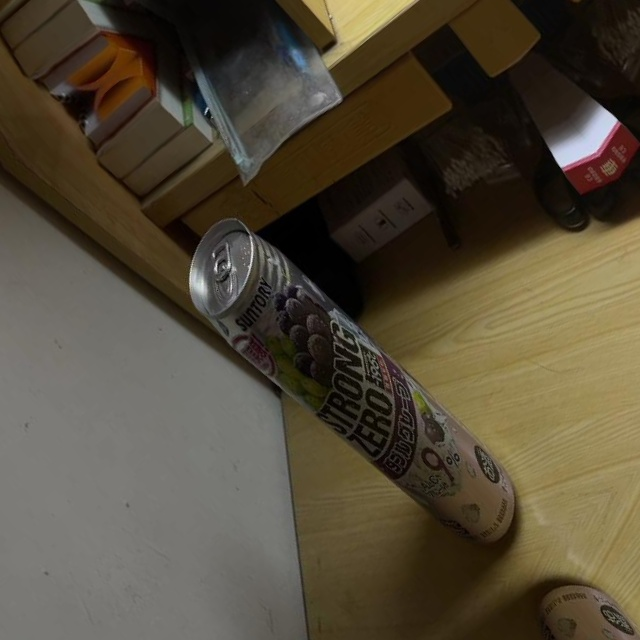Liquor: (159, 175, 541, 594)
